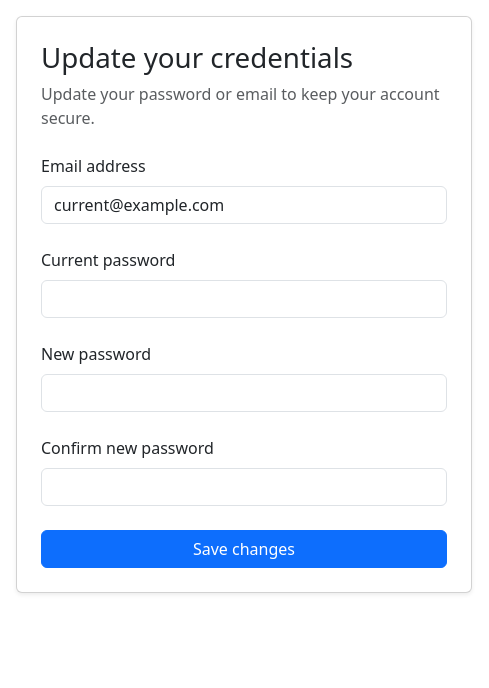
Test: ChangePasswordFlow › enforces matching password confirmation
In the password field labelled "Current password": (244, 299) [41, 280, 447, 318], type "old-pass"
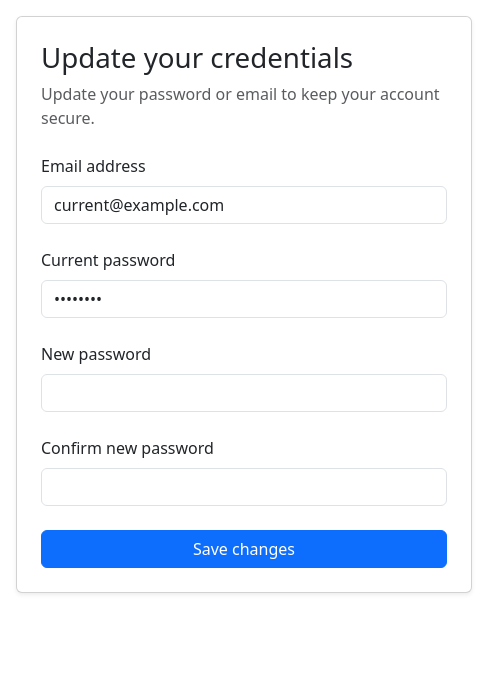
In the password field labelled "New password": (244, 393) [41, 374, 447, 412], type "new-pass"
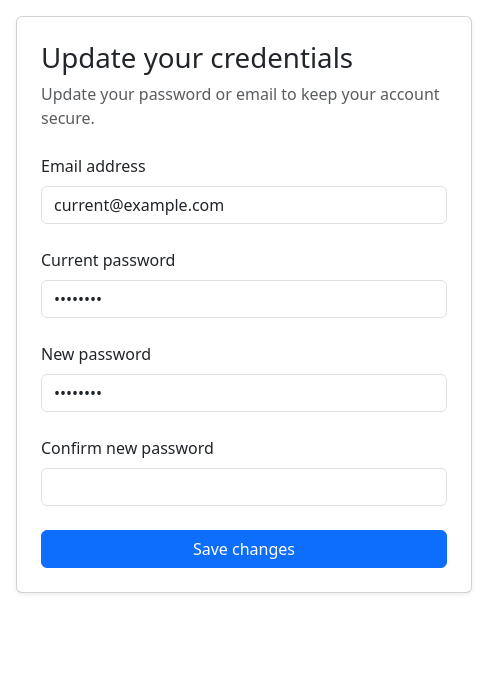
In the password field labelled "Confirm new password": (244, 487) [41, 468, 447, 506], type "different"
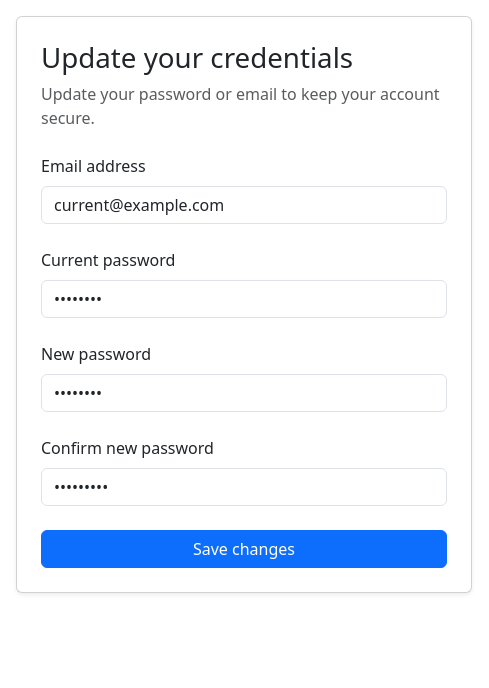
Click the button "Save changes": (244, 549) [41, 530, 447, 568]
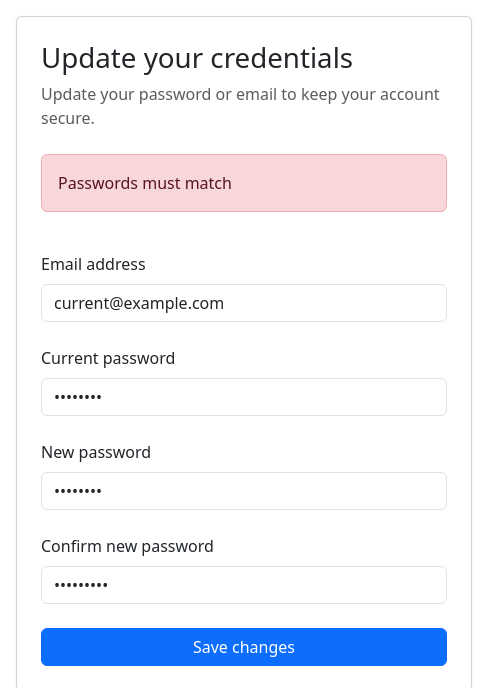
Check: the text "Passwords must match" is shown, box [41, 154, 447, 212]
